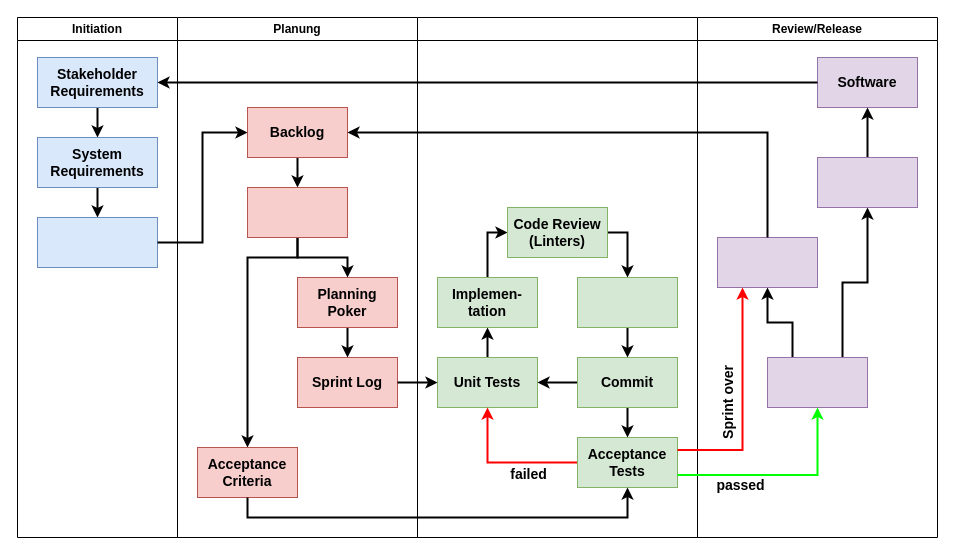
The diagram is 955 pixels wide and 555 high, and some of its shapes have lost their labels. Here are the shapes that lost their labels. From the top down, the box of each, then its label:
(816, 156, 918, 208): CI/CD
(246, 186, 348, 238): User Stories (INVEST)
(36, 216, 158, 268): Epics, User Stories
(716, 236, 818, 288): Review
(416, 16, 698, 538): Sprint (max 4h)
(576, 276, 678, 328): Refactor
(766, 356, 868, 408): Increment (Merge)
